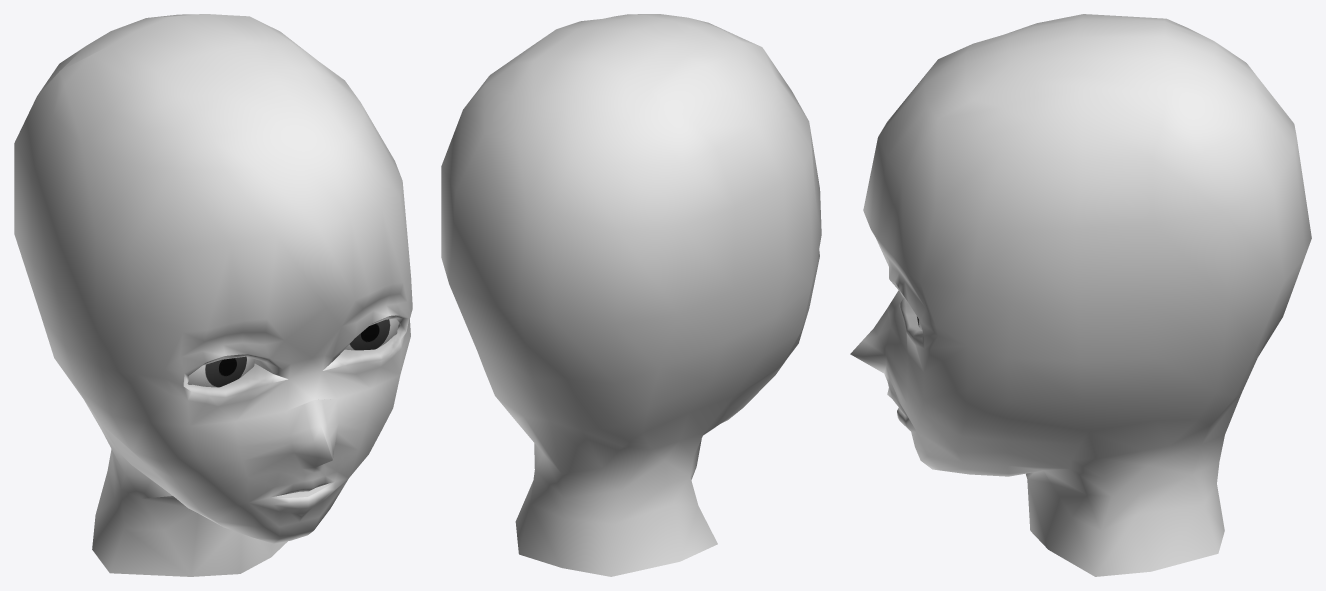
Rendered from face_test_vert_share.glb.
The picture shows the model from 3 angles, left to right: view 1: azimuth 30°, elevation 25°; view 2: azimuth 150°, elevation 25°; view 3: azimuth 270°, elevation 25°; orthographic projection. The views are drawn at different scales.
Visible parts, largest first — view 1: head; view 2: head; view 3: head.
Part boxes in pixels (left/top/right/bottom): head: left=14, top=14, right=412, bottom=576; head: left=441, top=14, right=821, bottom=576; head: left=850, top=14, right=1311, bottom=576.
Size of the model in its own units: 0.2013 by 0.3063 by 0.2596.
2 materials, 2 textured.
